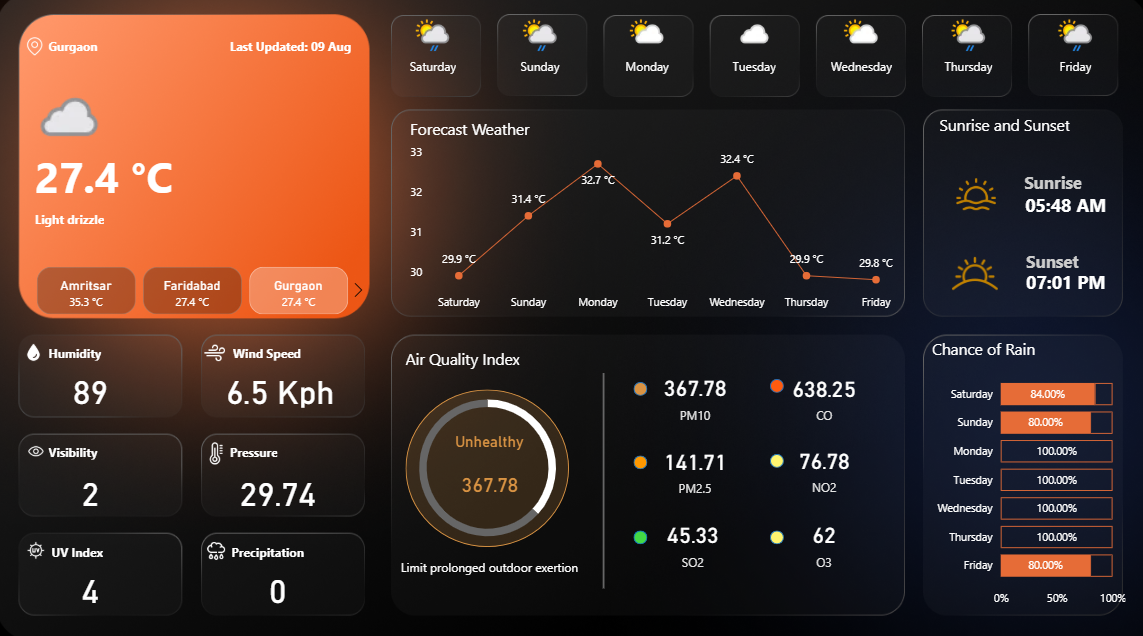

This screenshot's page, from the dashboard's own definition file:
{"tool":"powerbi","page":{"name":"Page 1","canvas":[1280,720],"ordinal":0},"visuals":[{"type":"shape","box":[455,438.3,181.7,175],"z":0},{"type":"advancedSlicerVisual","fields":{"Values":["Location.location.name"]},"box":[19.5,295.9,398.3,63.4],"z":1000},{"type":"shape","box":[43.9,138.2,235.7,123.6],"z":2000},{"type":"shape","box":[43.9,187,177.2,125.2],"z":3000},{"type":"shape","box":[59.1,25.6,137.4,62.3],"z":4000},{"type":"shape","box":[260.1,34.1,160.9,45.5],"z":5000},{"type":"image","box":[22.4,41.5,43.1,30.4],"z":6000},{"type":"cardVisual","fields":{"Data":["Min(Current.current.condition.icon)"]},"box":[14.6,73.2,118.7,92.7],"z":7000},{"type":"shape","box":[59.1,375.5,161.4,44.7],"z":8000},{"type":"image","box":[22.4,381.8,39.9,30.4],"z":9000},{"type":"image","box":[22.4,492.1,44.7,30.4],"z":10000},{"type":"shape","box":[59.1,485.7,161.4,44.7],"z":11000},{"type":"image","box":[22.4,602.3,44.7,30.4],"z":12000},{"type":"shape","box":[62.3,595.9,161.4,44.7],"z":13000},{"type":"image","box":[223.7,380.2,39.9,35.1],"z":14000},{"type":"image","box":[225.3,492.1,39.9,35.1],"z":15000},{"type":"image","box":[225.3,600.7,39.9,35.1],"z":16000},{"type":"shape","box":[263.6,375.5,161.4,44.7],"z":17000},{"type":"shape","box":[260.4,485.7,161.4,44.7],"z":18000},{"type":"shape","box":[262,595.9,161.4,44.7],"z":19000},{"type":"card","fields":{"Values":["Sum(Current.current.humidity)"]},"box":[45.5,412.9,118.7,50.4],"z":20000},{"type":"card","fields":{"Values":["_Measure.Wind_Speed"]},"box":[226,412.9,177.2,50.4],"z":21000},{"type":"card","fields":{"Values":["Sum(Current.current.vis_km)"]},"box":[45.5,523.5,118.7,55.3],"z":22000},{"type":"card","fields":{"Values":["Sum(Current.current.pressure_in)"]},"box":[253.6,523.5,118.7,55.3],"z":23000},{"type":"card","fields":{"Values":["Sum(Current.current.uv)"]},"box":[45.5,632.4,118.7,55.3],"z":24000},{"type":"card","fields":{"Values":["Sum(Current.current.precip_mm)"]},"box":[253.6,632.4,118.7,55.3],"z":25000},{"type":"advancedSlicerVisual","fields":{"Values":["Forecast_Day.Day_Name"]},"box":[424.3,14.6,835.6,105.7],"z":26000},{"type":"lineChart","title":"Forecast Weather","fields":{"Y":["Sum(Forecast_Day.forecast.forecastday.day.avgtemp_c)"],"Category":["Forecast_Day.Day_Name"]},"box":[455.6,137,558.4,222.7],"z":27000},{"type":"shape","box":[1048.1,121.4,161.4,44.7],"z":28000},{"type":"shape","box":[1105.6,186.9,139,41.5],"z":29000},{"type":"shape","box":[1108.8,274.8,131,41.5],"z":30000},{"type":"shape","box":[1116.8,212.5,143.8,43.1],"z":31000},{"type":"shape","box":[1120,295.6,137.4,47.9],"z":32000},{"type":"image","box":[1060.9,193.3,54.3,55.9],"z":33000},{"type":"image","box":[1048.1,260.4,78.3,99.1],"z":34000},{"type":"hundredPercentStackedBarChart","title":"Chance of Rain","fields":{"Category":["Forecast_Day.Day_Name"],"Y":["Sum(Forecast_Day.forecast.forecastday.day.daily_chance_of_rain)","Current.Left_value_rain"]},"box":[1035.3,381.8,225.3,306.8],"z":35000},{"type":"shape","box":[455.3,381.8,174.1,44.7],"z":36000},{"type":"card","fields":{"Values":["Sum(Current.current.air_quality.co)"]},"box":[868.5,404.3,103.2,81.5],"z":37000},{"type":"card","fields":{"Values":["Sum(Current.current.air_quality.no2)"]},"box":[868.5,485.8,103.2,81.5],"z":38000},{"type":"card","fields":{"Values":["Sum(Current.current.air_quality.o3)"]},"box":[868.4,568.6,102.8,80.5],"z":39000},{"type":"card","fields":{"Values":["Sum(Current.current.air_quality.pm10)"]},"box":[724.5,404.2,102.8,80.5],"z":40000},{"type":"card","fields":{"Values":["Sum(Current.current.air_quality.pm2_5)"]},"box":[724.5,486.4,102.8,80.5],"z":41000},{"type":"card","fields":{"Values":["Sum(Current.current.air_quality.so2)"]},"box":[724.5,568.6,97.6,80.5],"z":42000},{"type":"shape","box":[709.1,429.9,15.4,15.4],"z":43000},{"type":"shape","box":[859.8,426.5,15.4,15.4],"z":44000},{"type":"shape","box":[709.1,512.1,15.4,15.4],"z":45000},{"type":"shape","box":[709.1,594.3,15.4,15.4],"z":46000},{"type":"shape","box":[859.8,510.4,15.4,15.4],"z":47000},{"type":"shape","box":[859.8,594.3,15.4,15.4],"z":48000},{"type":"shape","box":[600.7,420.2,150.2,239.7],"z":49000},{"type":"card","fields":{"Values":["Sum(Current.current.air_quality.pm10)"]},"box":[493.3,486.7,110,95],"z":50000},{"type":"donutChart","fields":{"Y":["Sum(Current.current.air_quality.pm10)","_Measure.left_value_PM10"]},"box":[441.7,425,208.3,200],"z":51000},{"type":"shape","box":[443.3,608.3,210,53.3],"z":51001}]}

Visuals, with their boxes in screenshot pixels (x1, y1, x2, y2), scaled from the page's 1280x720 canvas onto the 1143x636 screenshot:
shape: pyautogui.locateOnScreen(406, 387, 569, 542)
advancedSlicerVisual - Location.location.name: pyautogui.locateOnScreen(17, 261, 373, 317)
shape: pyautogui.locateOnScreen(39, 122, 250, 231)
shape: pyautogui.locateOnScreen(39, 165, 197, 276)
shape: pyautogui.locateOnScreen(53, 23, 175, 78)
shape: pyautogui.locateOnScreen(232, 30, 376, 70)
image: pyautogui.locateOnScreen(20, 37, 58, 64)
cardVisual - Min(Current.current.condition.icon): pyautogui.locateOnScreen(13, 65, 119, 147)
shape: pyautogui.locateOnScreen(53, 332, 197, 371)
image: pyautogui.locateOnScreen(20, 337, 56, 364)
image: pyautogui.locateOnScreen(20, 435, 60, 462)
shape: pyautogui.locateOnScreen(53, 429, 197, 469)
image: pyautogui.locateOnScreen(20, 532, 60, 559)
shape: pyautogui.locateOnScreen(56, 526, 200, 566)
image: pyautogui.locateOnScreen(200, 336, 235, 367)
image: pyautogui.locateOnScreen(201, 435, 237, 466)
image: pyautogui.locateOnScreen(201, 531, 237, 562)
shape: pyautogui.locateOnScreen(235, 332, 380, 371)
shape: pyautogui.locateOnScreen(233, 429, 377, 469)
shape: pyautogui.locateOnScreen(234, 526, 378, 566)
card - Sum(Current.current.humidity): pyautogui.locateOnScreen(41, 365, 147, 409)
card - _Measure.Wind_Speed: pyautogui.locateOnScreen(202, 365, 360, 409)
card - Sum(Current.current.vis_km): pyautogui.locateOnScreen(41, 462, 147, 511)
card - Sum(Current.current.pressure_in): pyautogui.locateOnScreen(226, 462, 332, 511)
card - Sum(Current.current.uv): pyautogui.locateOnScreen(41, 559, 147, 607)
card - Sum(Current.current.precip_mm): pyautogui.locateOnScreen(226, 559, 332, 607)
advancedSlicerVisual - Forecast_Day.Day_Name: pyautogui.locateOnScreen(379, 13, 1125, 106)
"Forecast Weather" lineChart: pyautogui.locateOnScreen(407, 121, 905, 318)
shape: pyautogui.locateOnScreen(936, 107, 1080, 147)
shape: pyautogui.locateOnScreen(987, 165, 1111, 202)
shape: pyautogui.locateOnScreen(990, 243, 1107, 279)
shape: pyautogui.locateOnScreen(997, 188, 1126, 226)
shape: pyautogui.locateOnScreen(1000, 261, 1123, 303)
image: pyautogui.locateOnScreen(947, 171, 996, 220)
image: pyautogui.locateOnScreen(936, 230, 1006, 318)
"Chance of Rain" hundredPercentStackedBarChart: pyautogui.locateOnScreen(924, 337, 1126, 608)
shape: pyautogui.locateOnScreen(407, 337, 562, 377)
card - Sum(Current.current.air_quality.co): pyautogui.locateOnScreen(776, 357, 868, 429)
card - Sum(Current.current.air_quality.no2): pyautogui.locateOnScreen(776, 429, 868, 501)
card - Sum(Current.current.air_quality.o3): pyautogui.locateOnScreen(775, 502, 867, 573)
card - Sum(Current.current.air_quality.pm10): pyautogui.locateOnScreen(647, 357, 739, 428)
card - Sum(Current.current.air_quality.pm2_5): pyautogui.locateOnScreen(647, 430, 739, 501)
card - Sum(Current.current.air_quality.so2): pyautogui.locateOnScreen(647, 502, 734, 573)
shape: pyautogui.locateOnScreen(633, 380, 647, 393)
shape: pyautogui.locateOnScreen(768, 377, 782, 390)
shape: pyautogui.locateOnScreen(633, 452, 647, 466)
shape: pyautogui.locateOnScreen(633, 525, 647, 539)
shape: pyautogui.locateOnScreen(768, 451, 782, 464)
shape: pyautogui.locateOnScreen(768, 525, 782, 539)
shape: pyautogui.locateOnScreen(536, 371, 671, 583)
card - Sum(Current.current.air_quality.pm10): pyautogui.locateOnScreen(441, 430, 539, 514)
donutChart - Sum(Current.current.air_quality.pm10) x _Measure.left_value_PM10: pyautogui.locateOnScreen(394, 375, 580, 552)
shape: pyautogui.locateOnScreen(396, 537, 583, 584)
